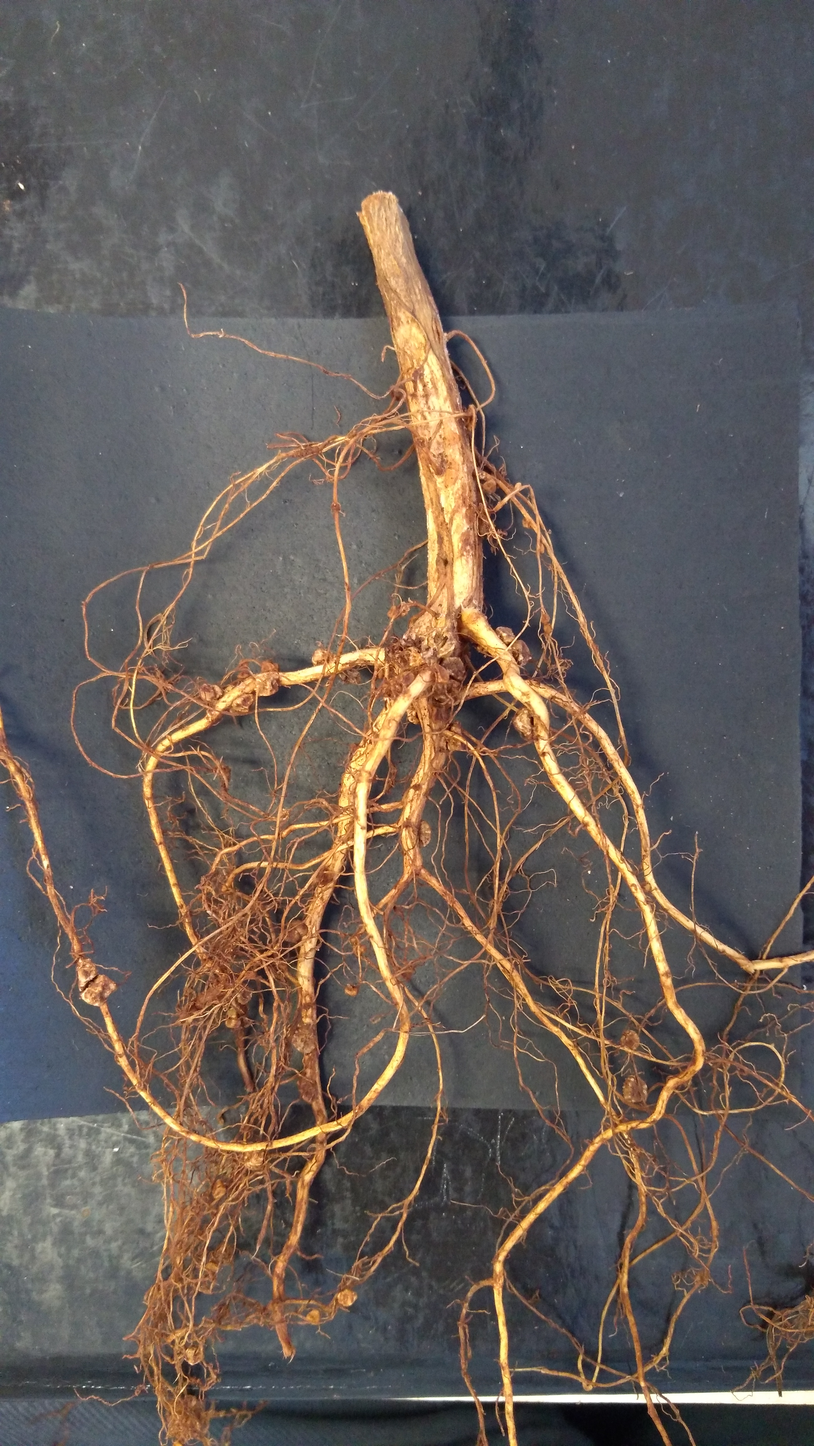nodule: (76, 973, 119, 1007), (439, 655, 473, 687), (509, 705, 537, 743), (73, 954, 99, 992), (622, 1071, 650, 1105), (444, 718, 467, 758), (279, 916, 310, 945), (286, 1027, 315, 1056), (253, 672, 282, 698), (296, 1067, 316, 1104), (508, 639, 532, 669), (181, 1344, 209, 1369), (306, 644, 336, 666), (211, 1240, 235, 1266), (491, 623, 518, 646), (197, 682, 224, 705), (334, 1288, 364, 1308), (242, 1148, 267, 1172), (416, 818, 434, 850), (208, 1178, 230, 1204), (220, 1005, 243, 1029), (230, 691, 255, 713), (619, 1029, 642, 1052), (306, 1308, 329, 1327), (402, 705, 421, 728), (481, 478, 500, 499), (236, 986, 255, 1007), (402, 630, 420, 648), (394, 670, 414, 686), (259, 659, 282, 672), (384, 602, 398, 621), (343, 984, 360, 997), (538, 612, 555, 624), (182, 1394, 199, 1406), (409, 651, 422, 666), (522, 516, 534, 531), (537, 540, 547, 557), (542, 622, 554, 636), (236, 668, 251, 679), (511, 480, 522, 491), (330, 501, 340, 512), (239, 659, 248, 667)
